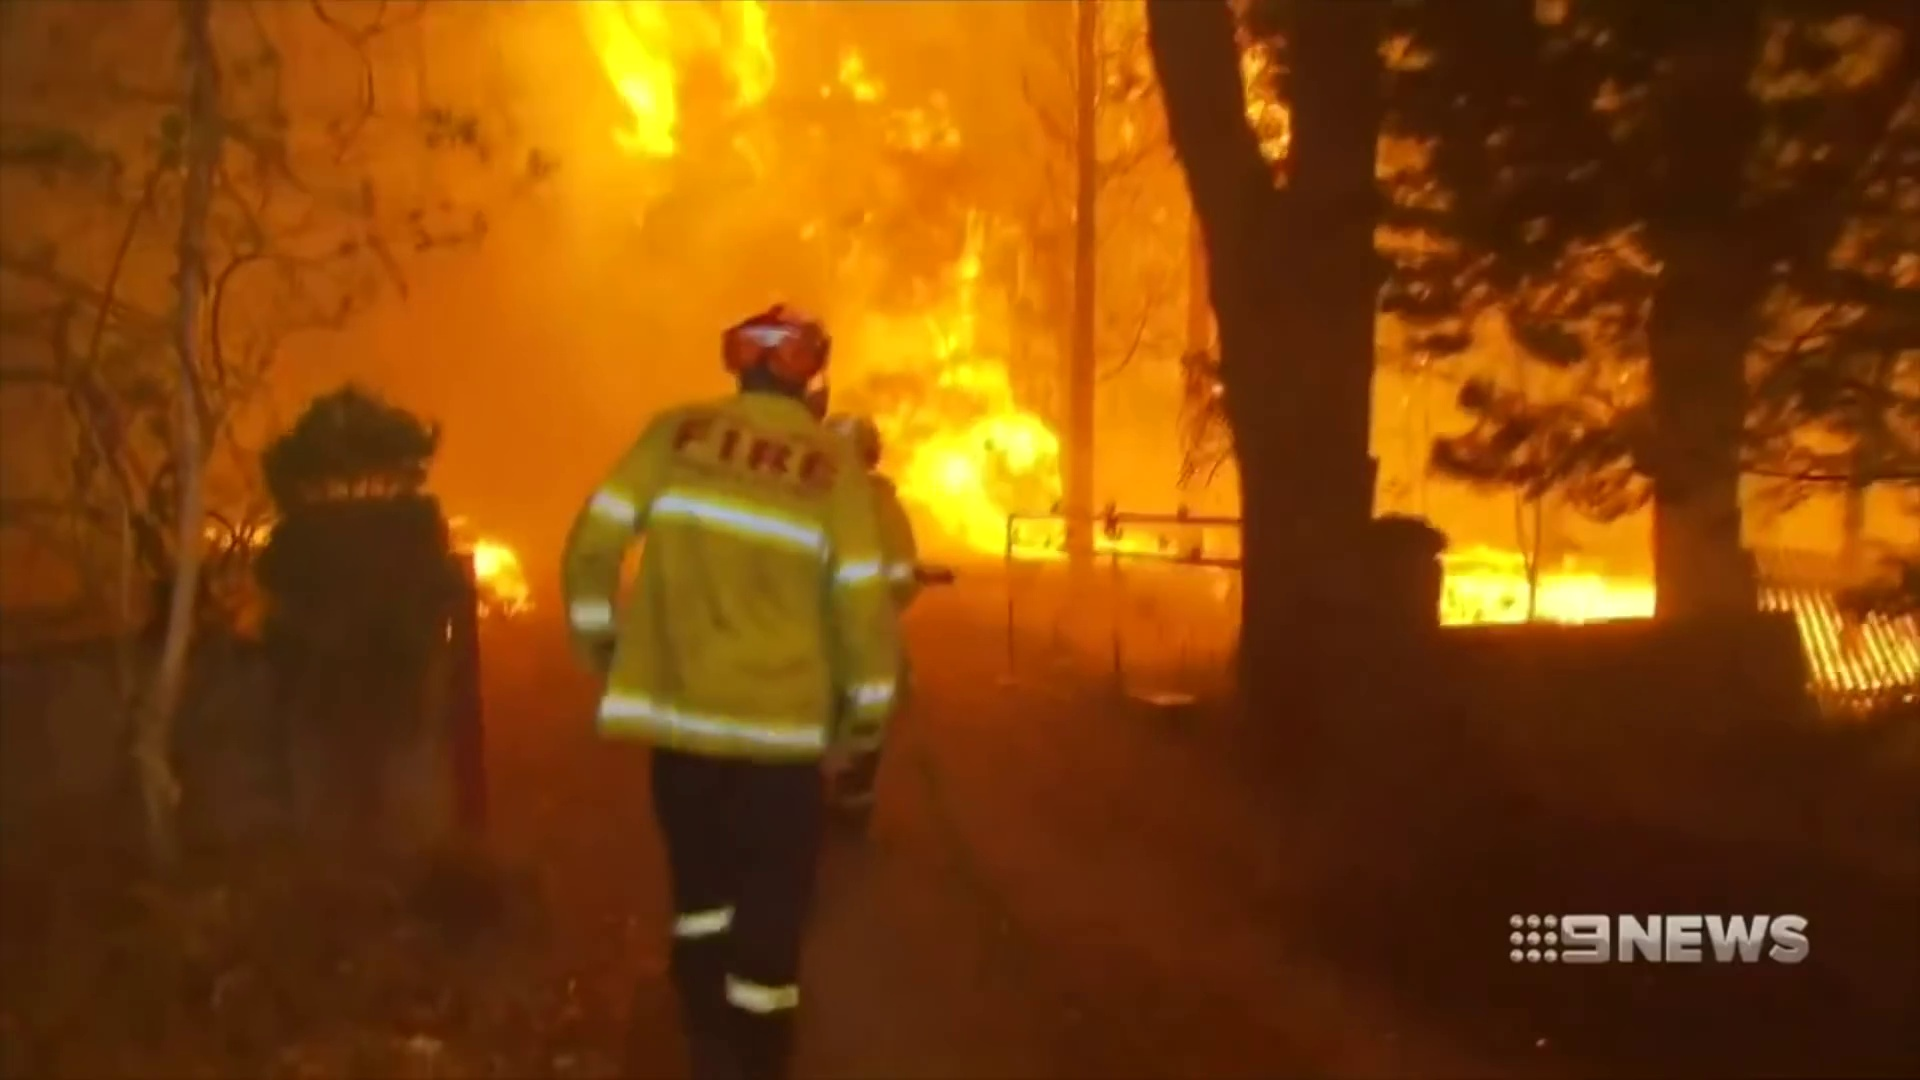fire: (881, 350, 1061, 561), (601, 1, 774, 153), (1442, 546, 1652, 623), (471, 545, 535, 610)
